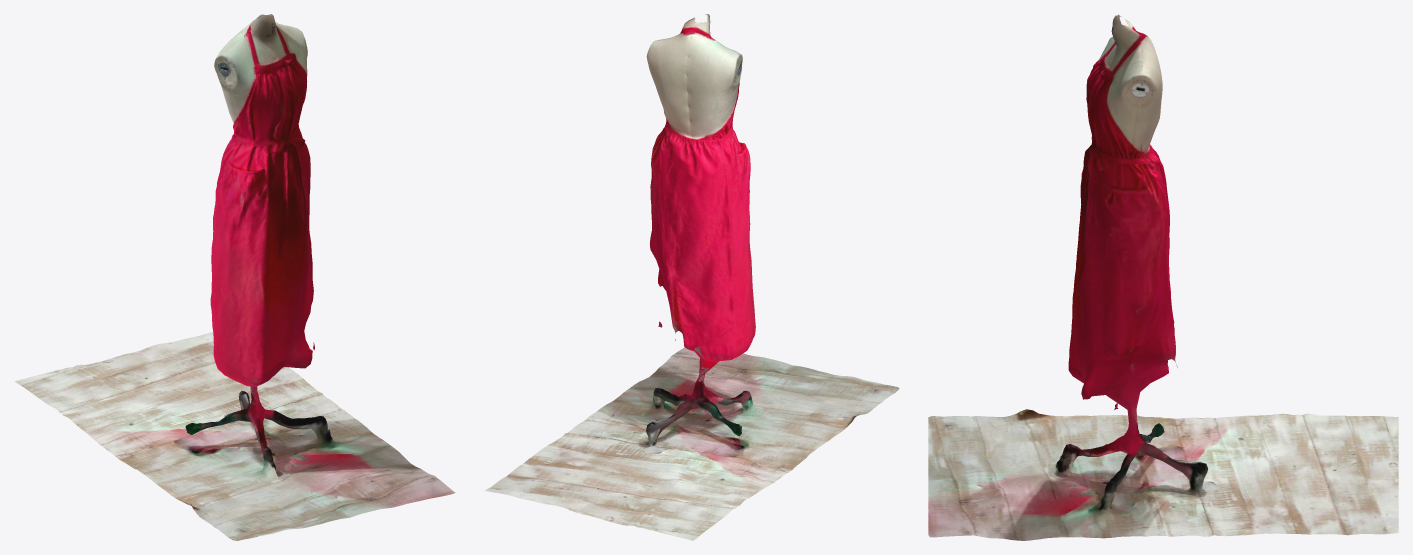
Rendered from dress4.glb.
3 views of the same model, side by side, from view 1: azimuth 30°, elevation 25°; view 2: azimuth 150°, elevation 25°; view 3: azimuth 270°, elevation 25° (orthographic). The views are drawn at different scales.
Visible parts, largest first — view 1: 098a8776-4b73-4a7e-8c5e-ba7a90e9fc4b_0; view 2: 098a8776-4b73-4a7e-8c5e-ba7a90e9fc4b_0; view 3: 098a8776-4b73-4a7e-8c5e-ba7a90e9fc4b_0.
Part boxes in pixels (bbox=[...]): 098a8776-4b73-4a7e-8c5e-ba7a90e9fc4b_0: bbox=[15, 14, 455, 540]; 098a8776-4b73-4a7e-8c5e-ba7a90e9fc4b_0: bbox=[484, 14, 899, 540]; 098a8776-4b73-4a7e-8c5e-ba7a90e9fc4b_0: bbox=[928, 14, 1398, 540].
Bounding box in the file's own units: 1.41 × 2.69 × 2.42.
Materials: 1 (1 with a texture image).
